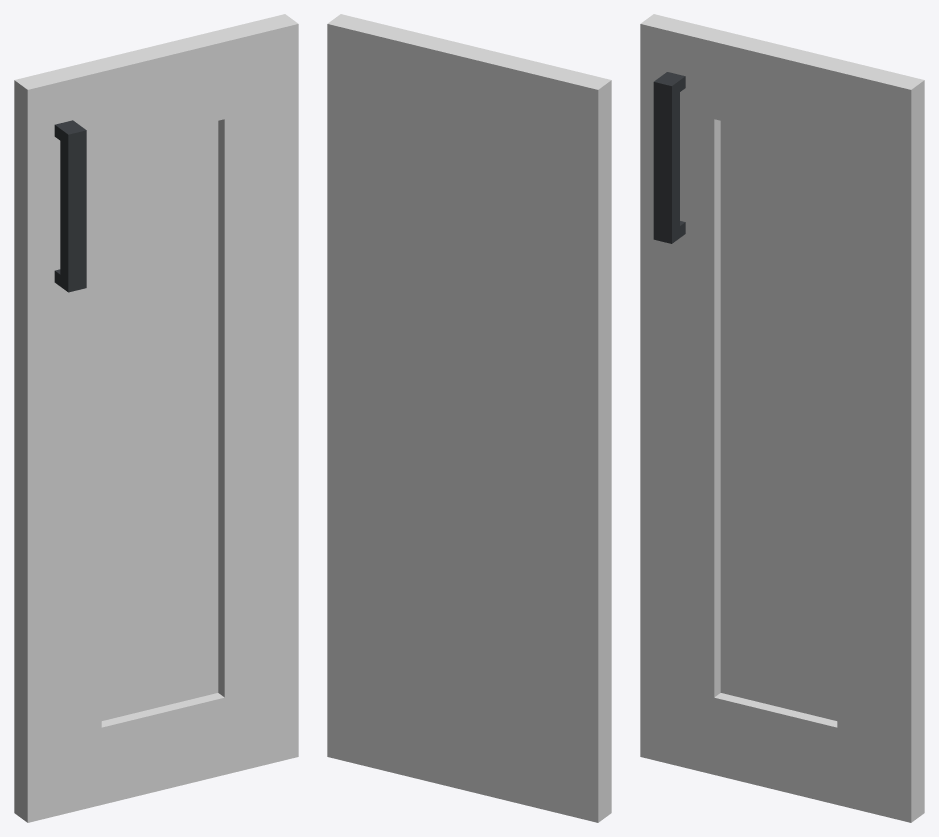
Rendered from Door2_C1_03.fbx.
3 views of the same model, side by side, from view 1: azimuth 30°, elevation 25°; view 2: azimuth 150°, elevation 25°; view 3: azimuth 330°, elevation 25° (orthographic).
Parts seen in each view (by area): view 1: Door2_C1_03; view 2: Door2_C1_03; view 3: Door2_C1_03.
Part boxes in pixels (<box>): Door2_C1_03: <box>14,14,298,822</box>; Door2_C1_03: <box>327,14,611,822</box>; Door2_C1_03: <box>640,14,924,822</box>.
Size of the model in its own units: 29 by 75 by 5.03.
